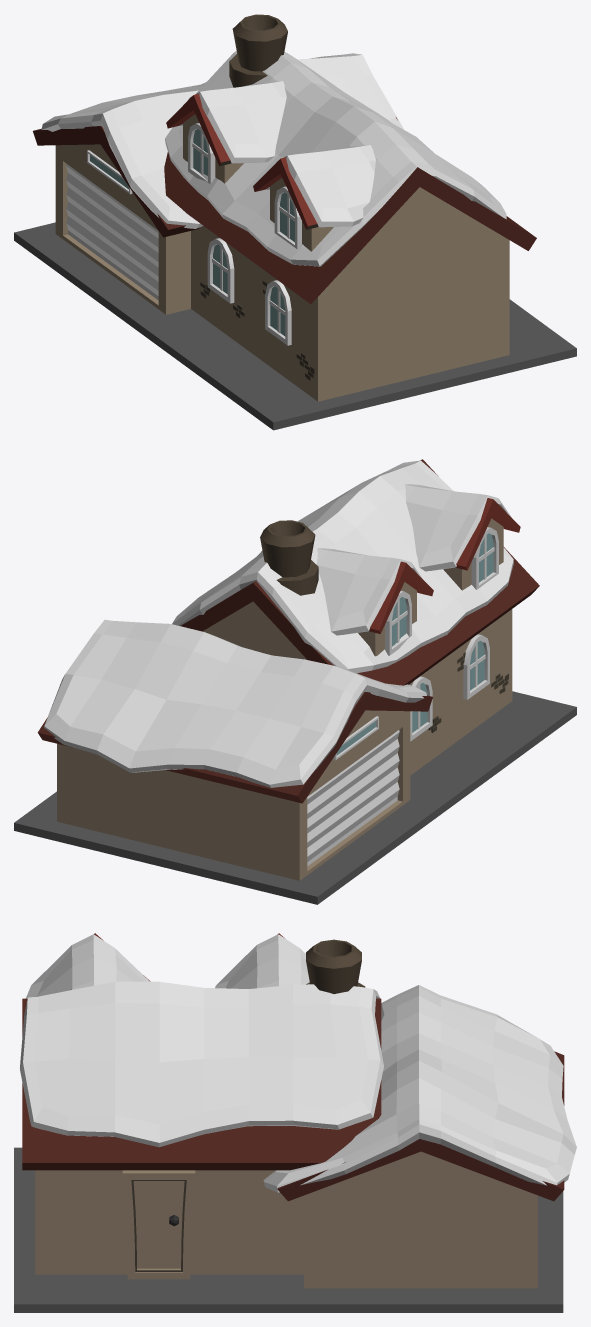
File: House_V01.fbx
The picture shows the model from 3 angles, top to bottom: view 1: azimuth 30°, elevation 25°; view 2: azimuth 150°, elevation 25°; view 3: azimuth 270°, elevation 25°; orthographic projection. The views are drawn at different scales.
Visible parts, largest first — view 1: House_V01; view 2: House_V01; view 3: House_V01.
Boxes of the visible parts, left/top/right/bottom form: House_V01: left=14, top=14, right=576, bottom=430; House_V01: left=14, top=459, right=576, bottom=904; House_V01: left=14, top=933, right=576, bottom=1312.
Size of the model in its own units: 8.38 by 6.95 by 12.72.
